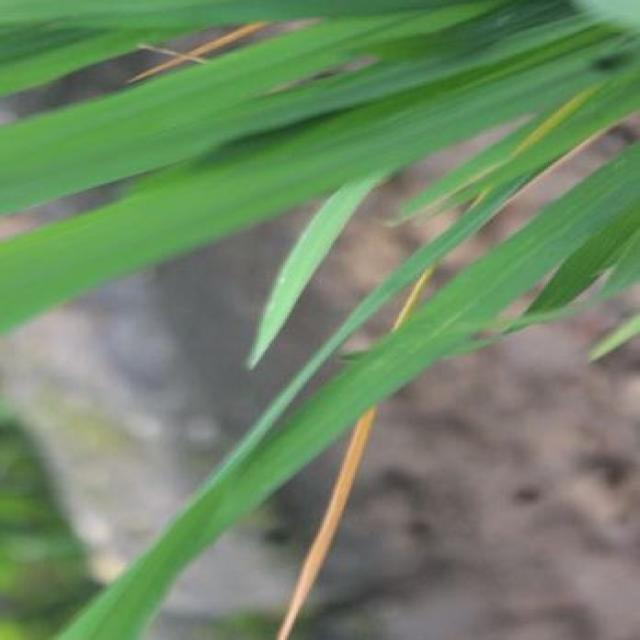Tungro: (260, 381, 430, 640), (97, 1, 300, 82), (377, 250, 453, 342)
